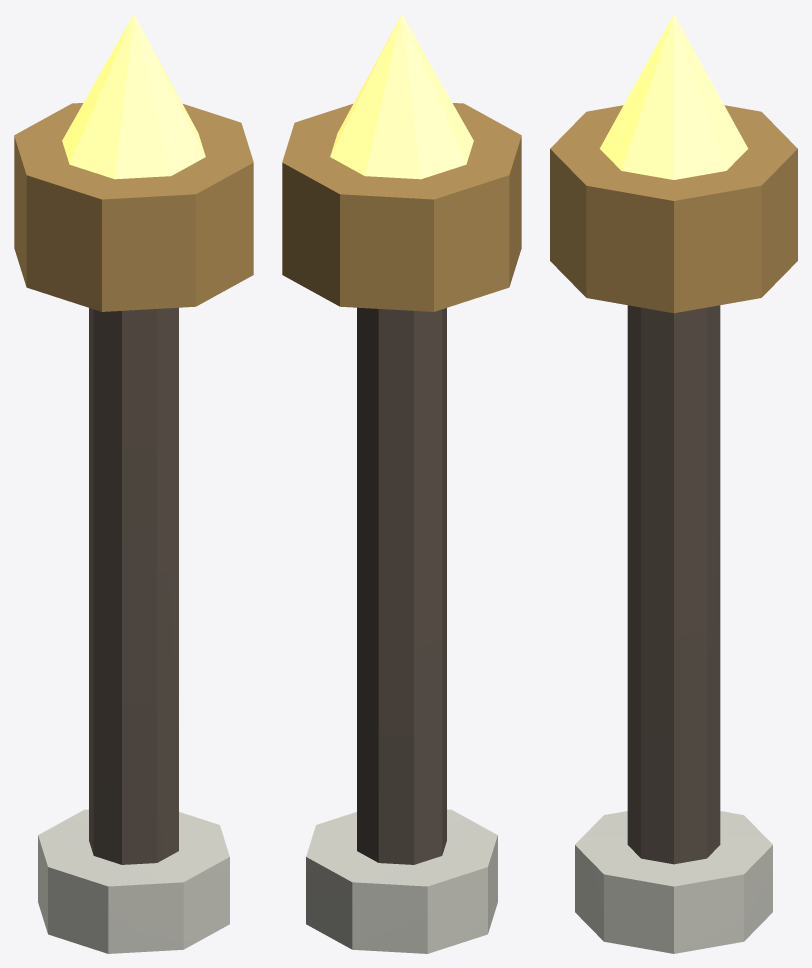
Rendered from Kit_Torch.glb.
3 renders of one model, left to right at view 1: azimuth 30°, elevation 25°; view 2: azimuth 150°, elevation 25°; view 3: azimuth 270°, elevation 25°, orthographic.
Parts seen in each view (by area): view 1: Weathered walnut beams, Warm brass accents, Carved pale limestone, Ember torch flame; view 2: Weathered walnut beams, Warm brass accents, Carved pale limestone, Ember torch flame; view 3: Weathered walnut beams, Warm brass accents, Carved pale limestone, Ember torch flame.
Part boxes in pixels (box(x1,y1,x2,y2)): Weathered walnut beams: box(89, 307, 178, 864); Warm brass accents: box(14, 103, 253, 311); Carved pale limestone: box(38, 809, 229, 953); Ember torch flame: box(62, 14, 205, 179); Weathered walnut beams: box(357, 307, 446, 864); Warm brass accents: box(282, 103, 521, 311); Carved pale limestone: box(306, 809, 497, 953); Ember torch flame: box(330, 14, 473, 179); Weathered walnut beams: box(627, 305, 720, 864); Warm brass accents: box(550, 105, 797, 313); Carved pale limestone: box(575, 811, 772, 953); Ember torch flame: box(599, 14, 748, 179).
Bounding box in the file's own units: 0.4 × 1.6 × 0.4.
